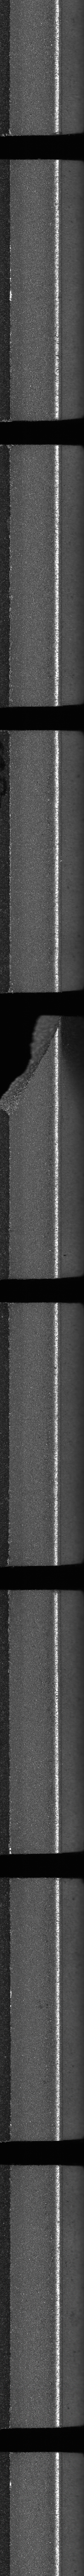Chip: (0, 1010, 64, 1124)
